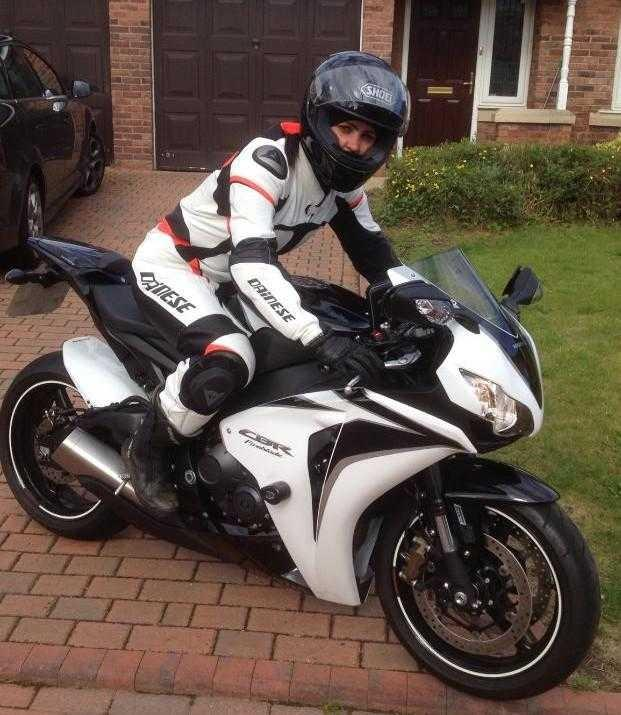motorbike: (5, 225, 600, 693)
